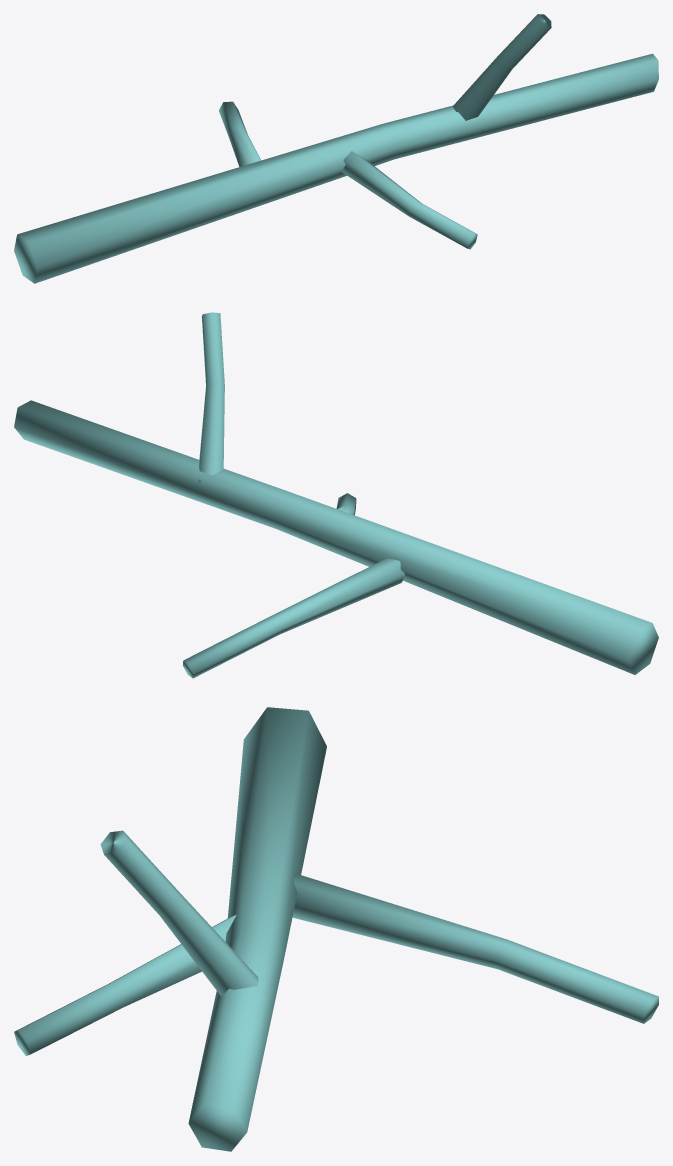
Rendered from Branch3.FBX.
3 renders of one model, top to bottom at view 1: azimuth 30°, elevation 25°; view 2: azimuth 150°, elevation 25°; view 3: azimuth 270°, elevation 25°, orthographic. The views are drawn at different scales.
Visible parts, largest first — view 1: brunch_3; view 2: brunch_3; view 3: brunch_3.
Part boxes in pixels (x1,y1,x2,y2): brunch_3: (14,14,658,283); brunch_3: (14,312,658,678); brunch_3: (14,707,658,1151).
Bounding box in the file's own units: 195 × 58.03 × 111.
